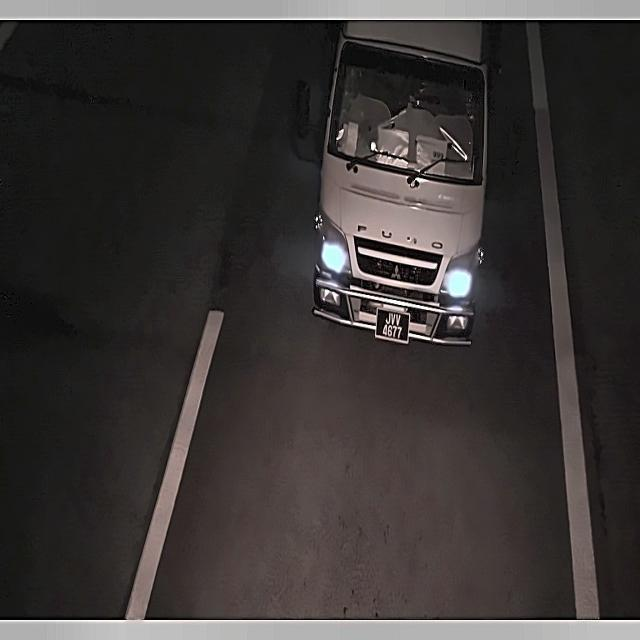car: (368, 303, 420, 348)
